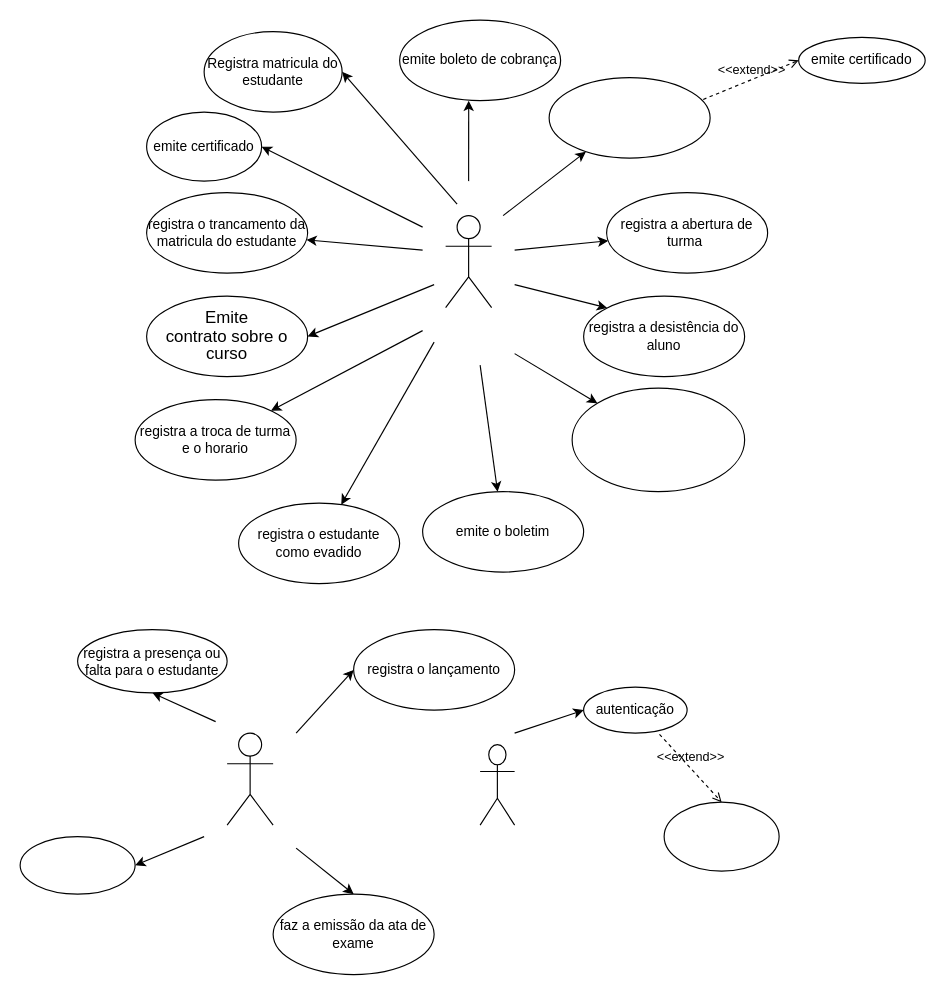
This 945x995 diagram has some shape labels left out. Each missing label, with the box of its shape:
Professor: (226, 732, 273, 825)
recuperação senha: (663, 801, 779, 871)
registra as aulas: (19, 835, 135, 894)
registra o cadastro dos cursos: (548, 76, 710, 158)
registra o professor para a turma e o curso que irá lecionar: (571, 387, 745, 492)
Secretaria: (444, 214, 492, 308)
usuario: (479, 743, 515, 825)
